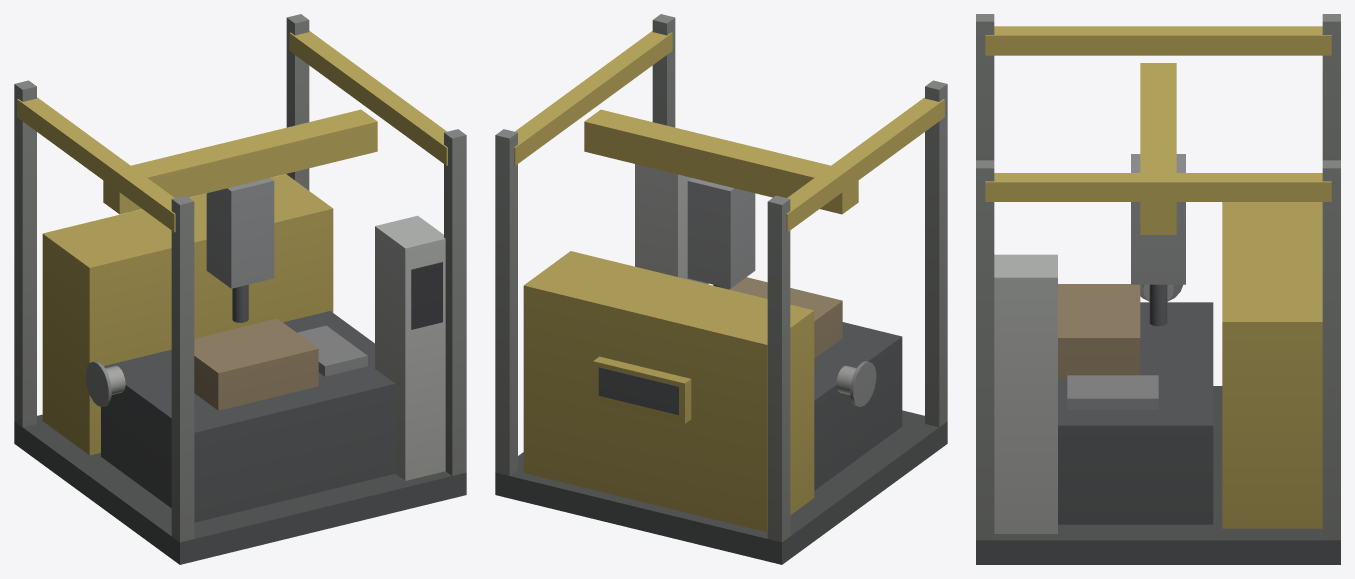
Rendered from mcFab_steel.glb.
3 views of the same model, side by side, from view 1: azimuth 30°, elevation 25°; view 2: azimuth 150°, elevation 25°; view 3: azimuth 270°, elevation 25° (orthographic). The views are drawn at different scales.
Parts seen in each view (by area): view 1: mcFab_steel; view 2: mcFab_steel; view 3: mcFab_steel.
Part boxes in pixels (x1,y1,x2,y2): mcFab_steel: [14, 14, 466, 564]; mcFab_steel: [495, 14, 947, 564]; mcFab_steel: [976, 14, 1340, 564].
Size of the model in its own units: 2.02 by 2.4 by 2.
